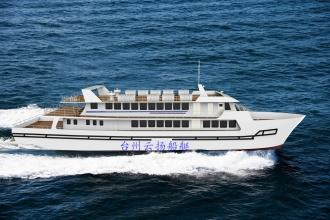yacht: (9, 66, 307, 155)
